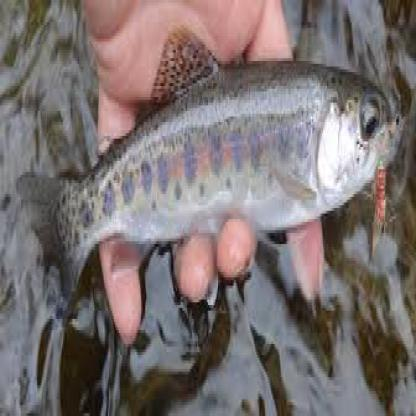fish: (40, 23, 396, 322)
